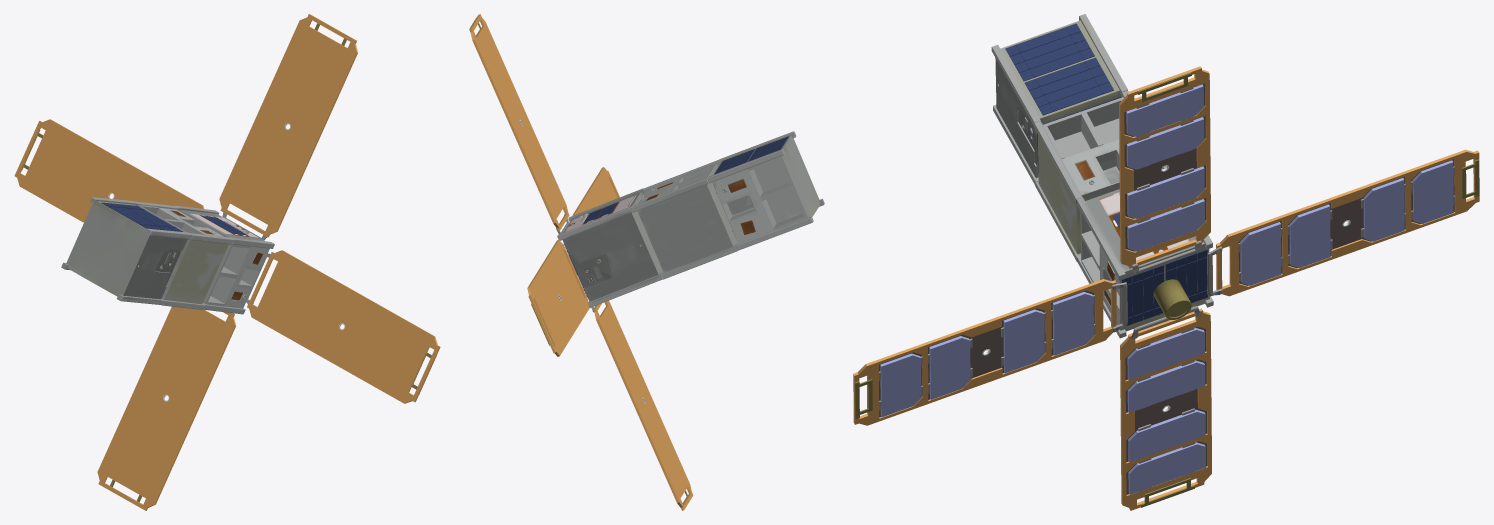
Rendered from satellite.glb.
The picture shows the model from 3 angles, left to right: view 1: azimuth 30°, elevation 25°; view 2: azimuth 150°, elevation 25°; view 3: azimuth 270°, elevation 25°; orthographic projection. The views are drawn at different scales.
Visible parts, largest first — view 1: panel.003_Panel2.002_0, panel.002_Panel2.001_0, panel.001_Panel2_0, panel_Panel2_0, Cubesat_Cubesat Base_0, Cubesat.001_Cubesat Base_0, Cubesat.002_Cubesat Base_0, Cubesat_Solar Panels_0; view 2: Cubesat_Cubesat Base_0, Cubesat.001_Cubesat Base_0, Cubesat.002_Cubesat Base_0, panel.003_Panel2.002_0, panel.001_Panel2_0, panel_Panel2_0, panel.002_Panel2.001_0, Cubesat_Solar Panels_0, Cubesat.002_Panel_0; view 3: Cubesat.001_Cubesat Base_0, Cubesat_Solar Panels_0, Cubesat_Cubesat Base_0, panel.002_Panel2.001_0, panel_Panel2_0, panel.003_Panel2.002_0, panel.001_Panel2_0, Cubesat.002_Cubesat Base_0, Cubesat.002_Solar Panels_0, solarpanel.015_Solar Boards 2.002_0, solarpanel.005_Solar Boards 2_0, solarpanel.012_Solar Boards 2.002_0 (+21 smaller).
Boxes of the visible parts, box(x1,y1,x2,y2) form: panel.003_Panel2.002_0: box(219, 14, 357, 237); panel.002_Panel2.001_0: box(247, 250, 440, 403); panel.001_Panel2_0: box(97, 306, 235, 510); panel_Panel2_0: box(14, 119, 204, 222); Cubesat_Cubesat Base_0: box(61, 197, 192, 304); Cubesat.001_Cubesat Base_0: box(134, 201, 233, 309); Cubesat.002_Cubesat Base_0: box(175, 205, 274, 314); Cubesat_Solar Panels_0: box(101, 202, 182, 231); Cubesat_Cubesat Base_0: box(707, 131, 824, 250); Cubesat.001_Cubesat Base_0: box(632, 160, 737, 279); Cubesat.002_Cubesat Base_0: box(557, 188, 663, 307); panel.003_Panel2.002_0: box(469, 14, 569, 230); panel.001_Panel2_0: box(593, 300, 693, 510); panel_Panel2_0: box(527, 240, 589, 356); panel.002_Panel2.001_0: box(572, 167, 619, 215); Cubesat_Solar Panels_0: box(714, 136, 788, 231); Cubesat.002_Panel_0: box(565, 195, 636, 231); Cubesat.001_Cubesat Base_0: box(1034, 90, 1166, 261); Cubesat_Solar Panels_0: box(1005, 23, 1121, 173); Cubesat_Cubesat Base_0: box(991, 14, 1127, 184); panel.002_Panel2.001_0: box(853, 279, 1116, 425); panel_Panel2_0: box(1216, 149, 1479, 296); panel.003_Panel2.002_0: box(1119, 66, 1210, 268); panel.001_Panel2_0: box(1120, 308, 1211, 510); Cubesat.002_Cubesat Base_0: box(1076, 168, 1213, 338); Cubesat.002_Solar Panels_0: box(1112, 213, 1207, 325); solarpanel.015_Solar Boards 2.002_0: box(1126, 117, 1204, 169); solarpanel.005_Solar Boards 2_0: box(1127, 360, 1205, 412); solarpanel.012_Solar Boards 2.002_0: box(1127, 199, 1204, 251).
Bounding box in the file's own units: 2.33 × 3.08 × 3.09.
Materials: 20 (5 with a texture image).
